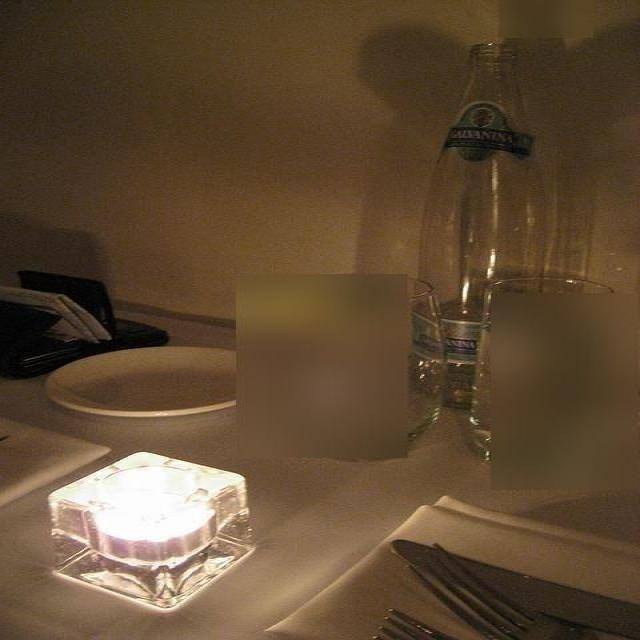bottle-glass: (419, 39, 548, 405)
